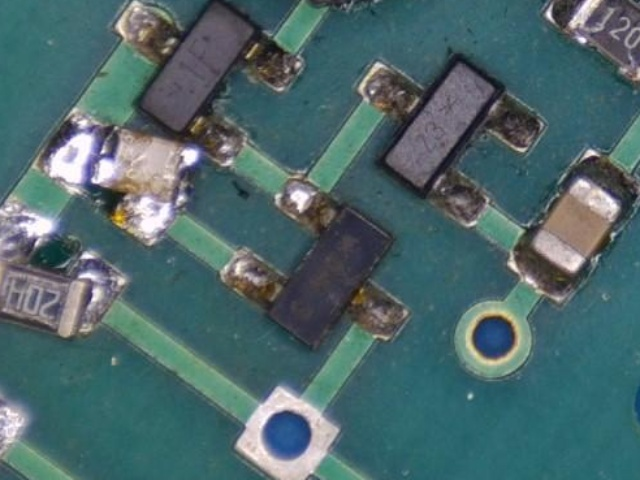pcb_defect: (29, 103, 203, 248), (0, 193, 131, 342)
